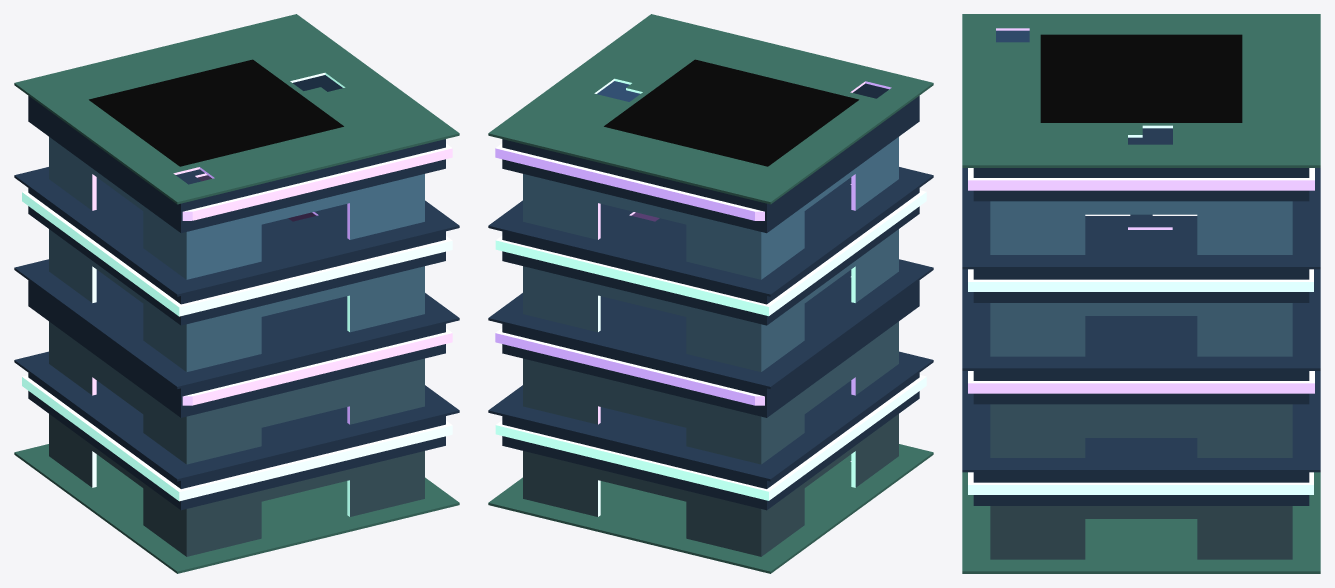
Rendered from StudzDragonMoonRoof_Final_17.gltf.
3 renders of one model, left to right at view 1: azimuth 30°, elevation 25°; view 2: azimuth 150°, elevation 25°; view 3: azimuth 270°, elevation 25°, orthographic. The views are drawn at different scales.
Parts seen in each view (by area): view 1: NewBuildingDragon; view 2: NewBuildingDragon; view 3: NewBuildingDragon.
Part boxes in pixels (<box>): NewBuildingDragon: <box>14,14,459,573</box>; NewBuildingDragon: <box>488,14,933,573</box>; NewBuildingDragon: <box>962,14,1320,573</box>.
Size of what is drawn, in the model's own units: 32 by 40.25 by 32.
4 materials, 1 textured.
